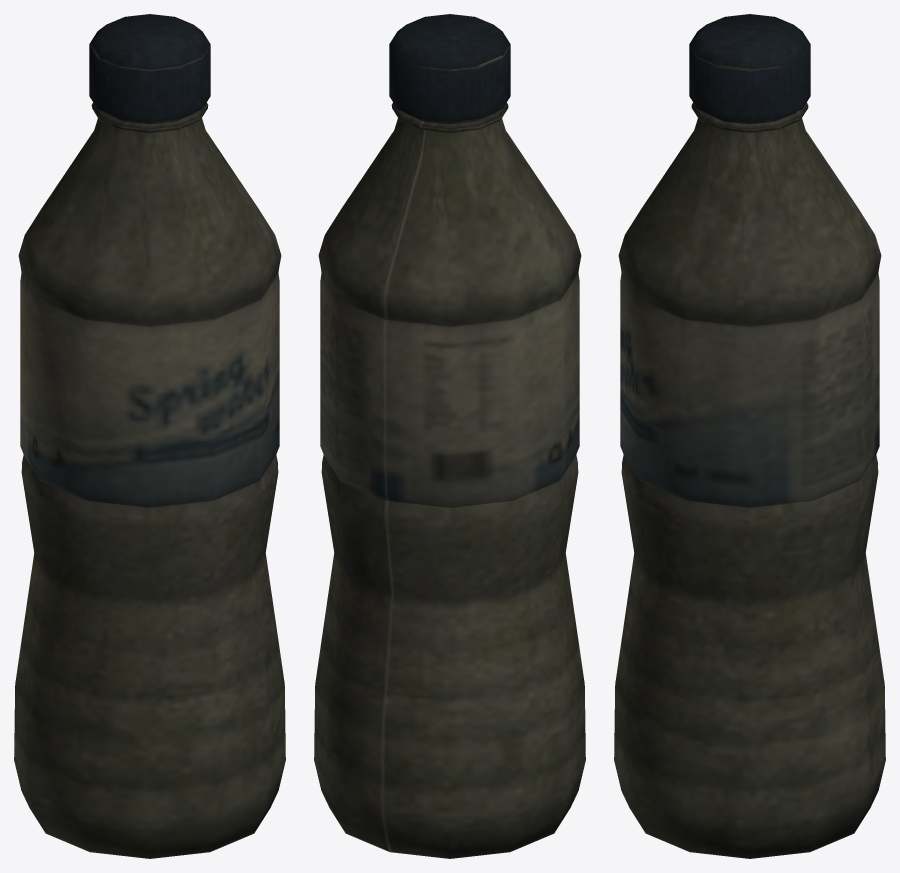
The model's file is plastic_bottle_mx_1_dirty.obj.
The picture shows the model from 3 angles, left to right: view 1: azimuth 30°, elevation 25°; view 2: azimuth 150°, elevation 25°; view 3: azimuth 270°, elevation 25°; orthographic projection.
Visible parts, largest first — view 1: plastic_bottle_mx_1_dirty; view 2: plastic_bottle_mx_1_dirty; view 3: plastic_bottle_mx_1_dirty.
Boxes of the visible parts, left/top/right/bottom form: plastic_bottle_mx_1_dirty: left=14, top=14, right=285, bottom=858; plastic_bottle_mx_1_dirty: left=314, top=14, right=585, bottom=858; plastic_bottle_mx_1_dirty: left=614, top=14, right=885, bottom=858.
Size of the model in its own units: 0.1009 by 0.3194 by 0.1009.
